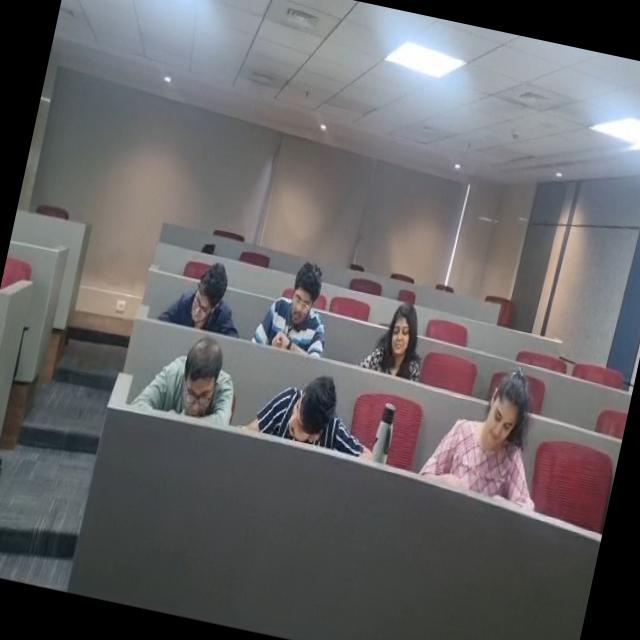cheating: (250, 345, 384, 466), (136, 326, 254, 441), (246, 247, 348, 371)
non-cheating: (448, 344, 552, 478), (164, 250, 254, 348), (368, 287, 444, 385)
